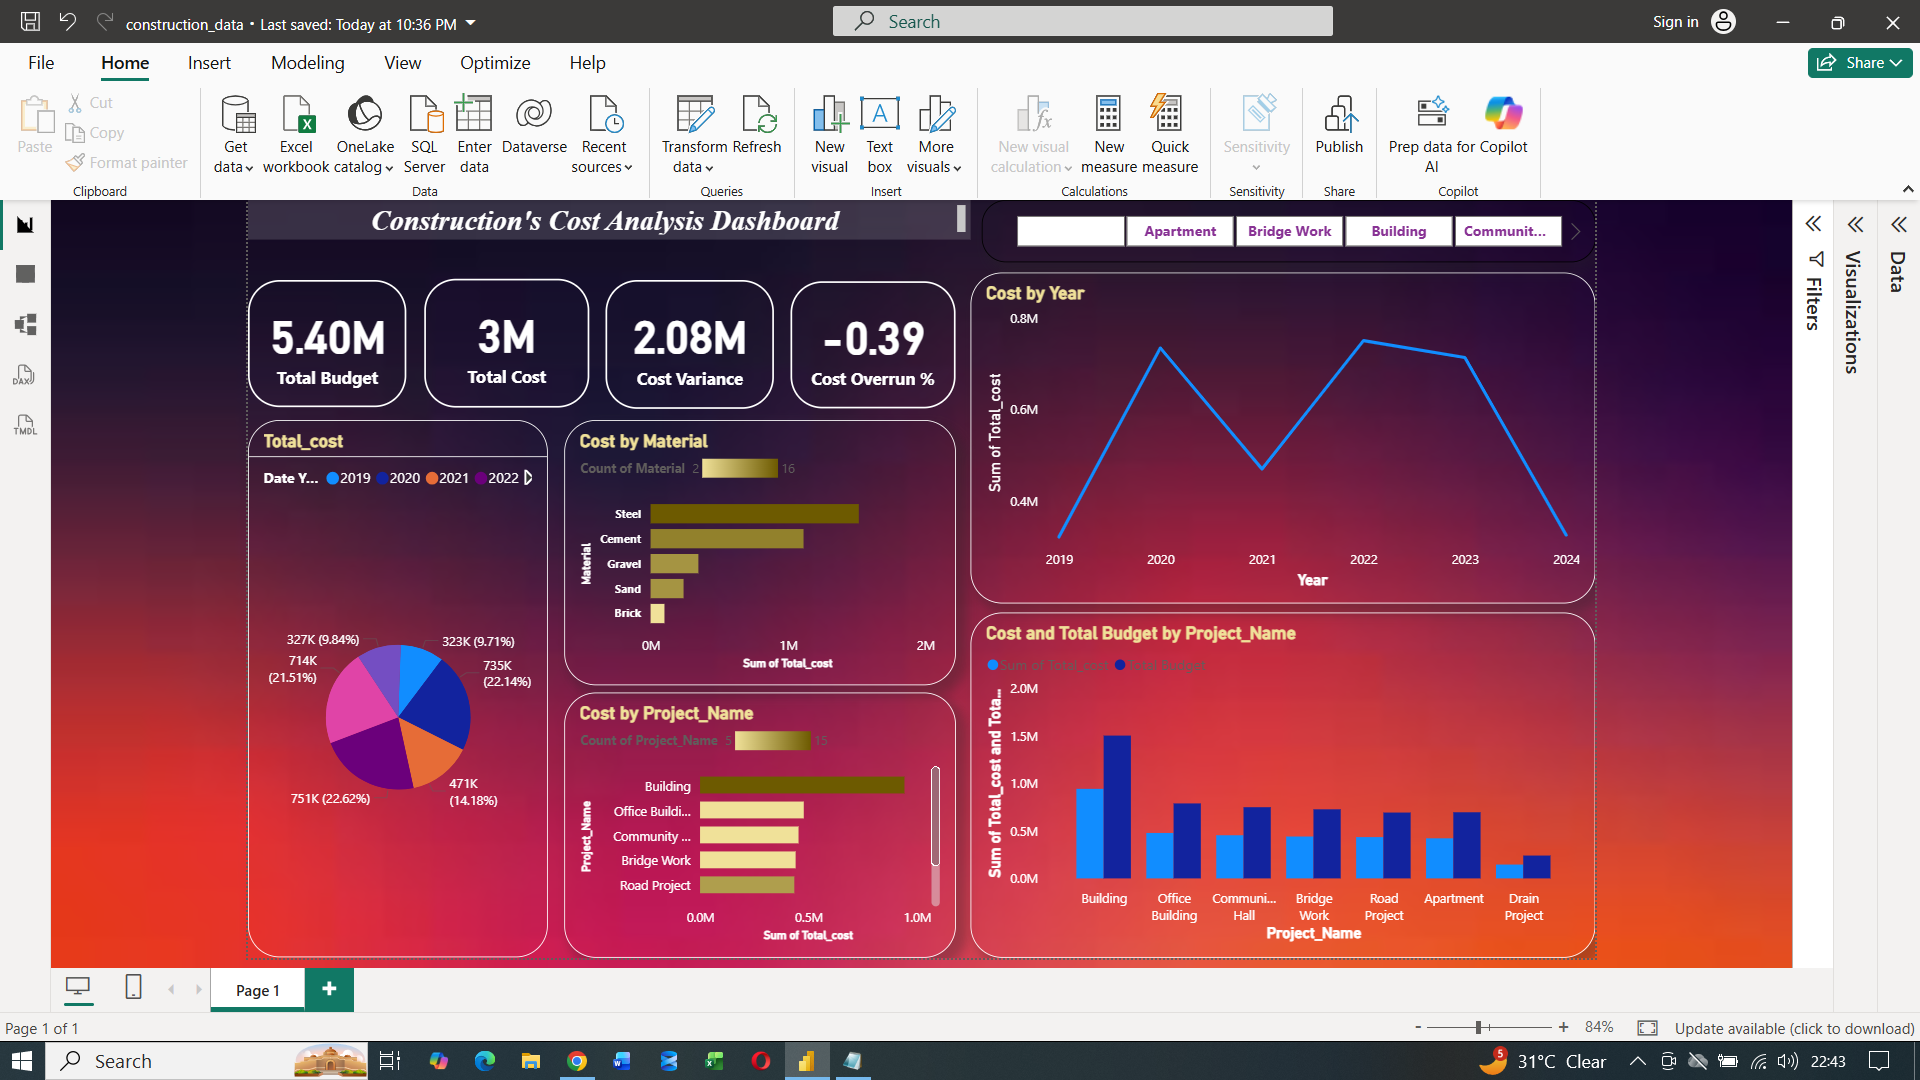

Layout of this report page (visuals, bound fields, positions):
{"tool":"powerbi","page":{"name":"Page 1","canvas":[1280,720],"ordinal":0},"visuals":[{"type":"card","fields":{"Values":["construction_data.Total Cost"]},"box":[167.4,74.8,156.7,122.3],"z":1},{"type":"card","fields":{"Values":["construction_data.Cost Variance"]},"box":[339.6,76,160.3,122.3],"z":3},{"type":"card","fields":{"Values":["construction_data.Total Budget"]},"box":[0,76,150.8,121.1],"z":4},{"type":"card","fields":{"Values":["construction_data.Cost Overrun %"]},"box":[515.3,77.2,156.7,121.1],"z":5},{"type":"barChart","title":"Cost by Material","fields":{"Category":["construction_data.Material"],"Y":["Sum(construction_data.Total_cost)"]},"box":[300.4,209,371.6,251.7],"z":6},{"type":"barChart","title":"Cost by Project_Name","fields":{"Category":["construction_data.Project_Name"],"Y":["Sum(construction_data.Total_cost)"]},"box":[300.4,467.8,371.6,251.7],"z":7},{"type":"lineChart","title":"Cost by Year","fields":{"Category":["construction_data.Date.Variation.Date Hierarchy.Year","construction_data.Date.Variation.Date Hierarchy.Quarter","construction_data.Date.Variation.Date Hierarchy.Month","construction_data.Date.Variation.Date Hierarchy.Day"],"Y":["Sum(construction_data.Total_cost)"]},"box":[686.3,68.9,593.7,314.6],"z":8},{"type":"clusteredColumnChart","title":"Cost and Total Budget by Project_Name","fields":{"Category":["construction_data.Project_Name"],"Y":["Sum(construction_data.Total_cost)","construction_data.Total Budget"]},"box":[686.3,391.8,593.7,327.7],"z":9},{"type":"slicer","fields":{"Values":["construction_data.Project_Name"]},"box":[697,0,583,59.4],"z":10},{"type":"textbox","box":[0,0,686.3,38],"z":11},{"type":"pieChart","title":"Total_cost","fields":{"Category":["construction_data.Date.Variation.Date Hierarchy.Year"],"Y":["Sum(construction_data.Total_cost)"]},"box":[0,209,285,510.6],"z":12}]}

Visuals, with their boxes in screenshot pixels (x1, y1, x2, y2):
card - construction_data.Total Cost: (204,42,427,216)
card - construction_data.Cost Variance: (450,43,678,218)
card - construction_data.Total Budget: (0,43,180,216)
card - construction_data.Cost Overrun %: (700,45,924,218)
"Cost by Material" barChart: (394,233,924,592)
"Cost by Project_Name" barChart: (394,602,924,962)
"Cost by Year" lineChart: (944,33,1791,482)
"Cost and Total Budget by Project_Name" clusteredColumnChart: (944,494,1791,962)
slicer - construction_data.Project_Name: (959,0,1791,20)
"Total_cost" pieChart: (0,233,372,962)
